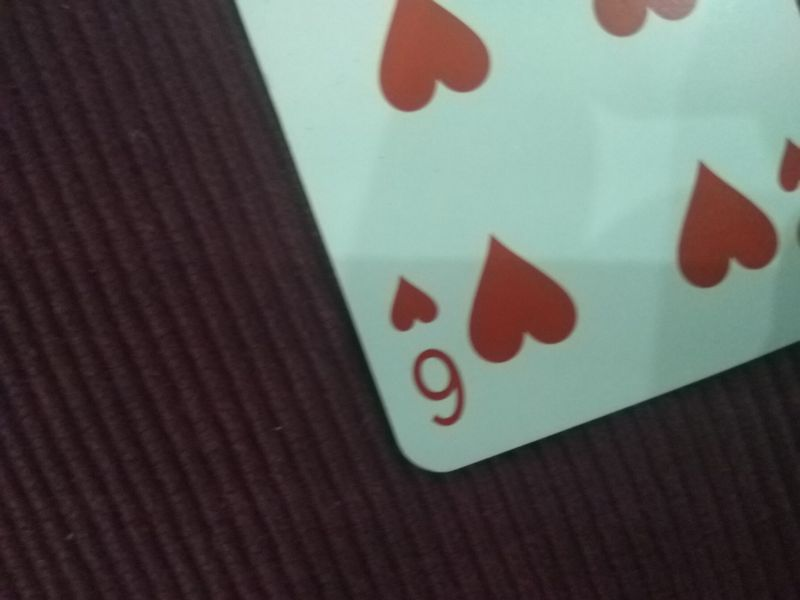6h: (382, 270, 478, 437)
